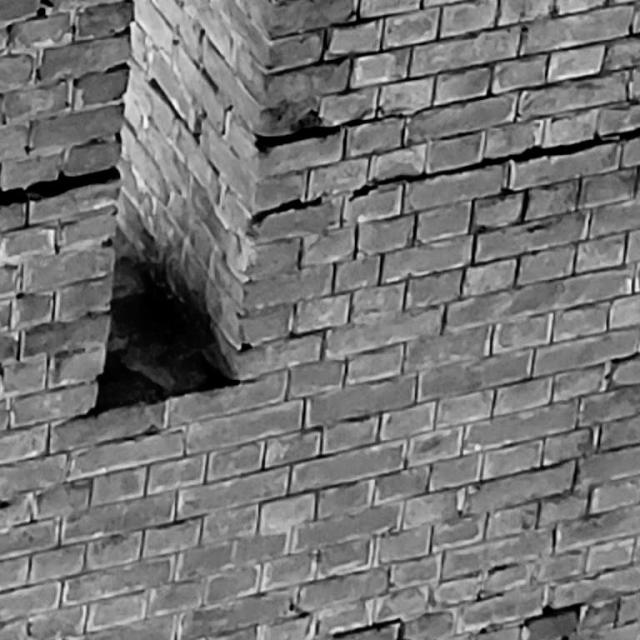crack: (253, 128, 639, 222), (1, 166, 119, 206), (255, 116, 371, 152), (147, 77, 208, 145), (333, 617, 402, 640), (523, 604, 581, 628)
